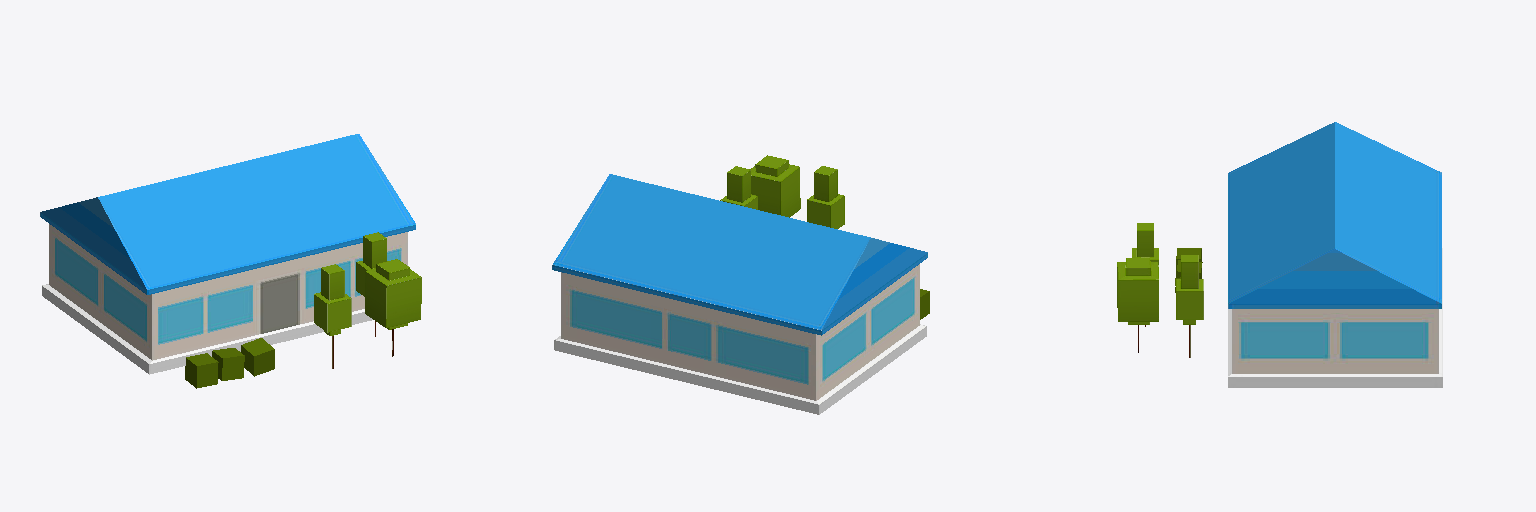
3 renders of one model, left to right at view 1: azimuth 30°, elevation 25°; view 2: azimuth 150°, elevation 25°; view 3: azimuth 270°, elevation 25°, orthographic.
Visible parts, largest first — view 1: living_blue_1lvl_Mesh.152, Tree_3_499_2.004_Mesh.213, Tree_2_3_61.008_Mesh.212, Tree_2_3_61.007_Mesh.211, Cube_51.008_Mesh.216, Cube_51.006_Mesh.214, Cube_51.007_Mesh.215; view 2: living_blue_1lvl_Mesh.152, Tree_3_499_2.004_Mesh.213, Tree_2_3_61.008_Mesh.212, Tree_2_3_61.007_Mesh.211; view 3: living_blue_1lvl_Mesh.152, Tree_3_499_2.004_Mesh.213, Tree_2_3_61.007_Mesh.211, Tree_2_3_61.008_Mesh.212.
Boxes of the visible parts, x1,y1,x2,y2 form: living_blue_1lvl_Mesh.152: [40, 134, 415, 374]; Tree_3_499_2.004_Mesh.213: [365, 259, 421, 356]; Tree_2_3_61.008_Mesh.212: [314, 264, 351, 368]; Tree_2_3_61.007_Mesh.211: [356, 232, 386, 336]; Cube_51.008_Mesh.216: [241, 338, 274, 376]; Cube_51.006_Mesh.214: [185, 353, 218, 388]; Cube_51.007_Mesh.215: [212, 348, 244, 380]; living_blue_1lvl_Mesh.152: [552, 174, 927, 414]; Tree_3_499_2.004_Mesh.213: [750, 155, 800, 217]; Tree_2_3_61.008_Mesh.212: [807, 166, 844, 228]; Tree_2_3_61.007_Mesh.211: [720, 166, 757, 209]; living_blue_1lvl_Mesh.152: [1228, 122, 1442, 387]; Tree_3_499_2.004_Mesh.213: [1117, 257, 1158, 352]; Tree_2_3_61.007_Mesh.211: [1176, 255, 1203, 357]; Tree_2_3_61.008_Mesh.212: [1132, 223, 1158, 326].
Bounding box in the file's own units: 1.77 × 0.8872 × 1.86.
4 materials, 3 textured.